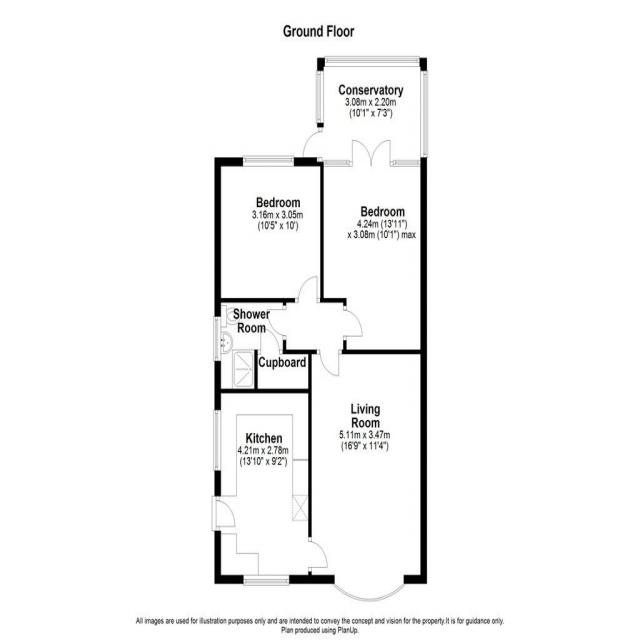DOOR: (211, 495, 236, 532), (294, 275, 321, 303), (308, 536, 328, 573), (266, 304, 286, 341), (316, 349, 342, 377), (343, 305, 363, 341)
DOUBLE DOOR: (351, 138, 392, 167)
ROOM: (308, 350, 428, 602), (211, 388, 328, 587), (320, 138, 427, 354), (214, 155, 324, 303)
WINDOW: (242, 154, 295, 168), (243, 574, 290, 587), (213, 409, 222, 472), (213, 316, 222, 362), (392, 159, 421, 167), (323, 159, 350, 167)
